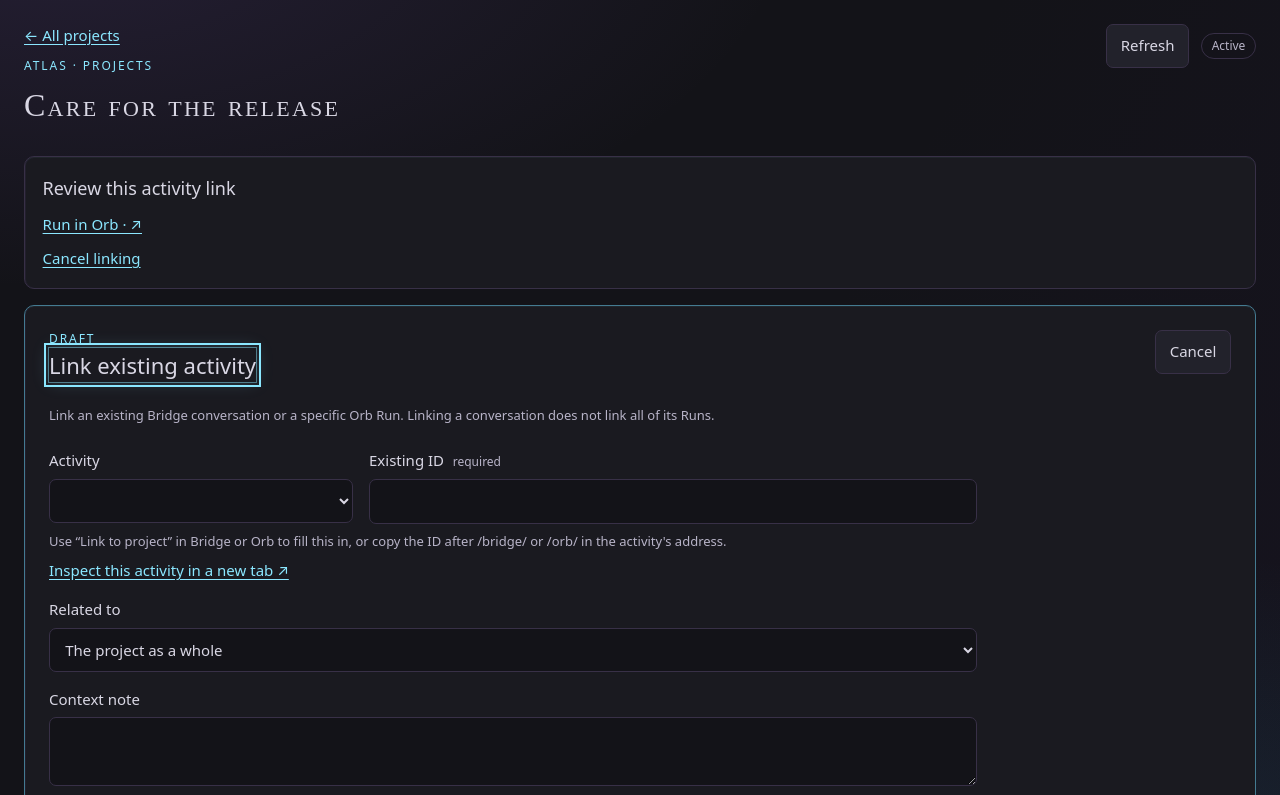
Scenario: shows a failed refresh as stale while retaining the last loaded project
Expected: the heading "Care for the release" is shown, x1=24 y1=81 x2=340 y2=131
Click the button "Refresh": click(1148, 46) x1=1106 y1=24 x2=1189 y2=68
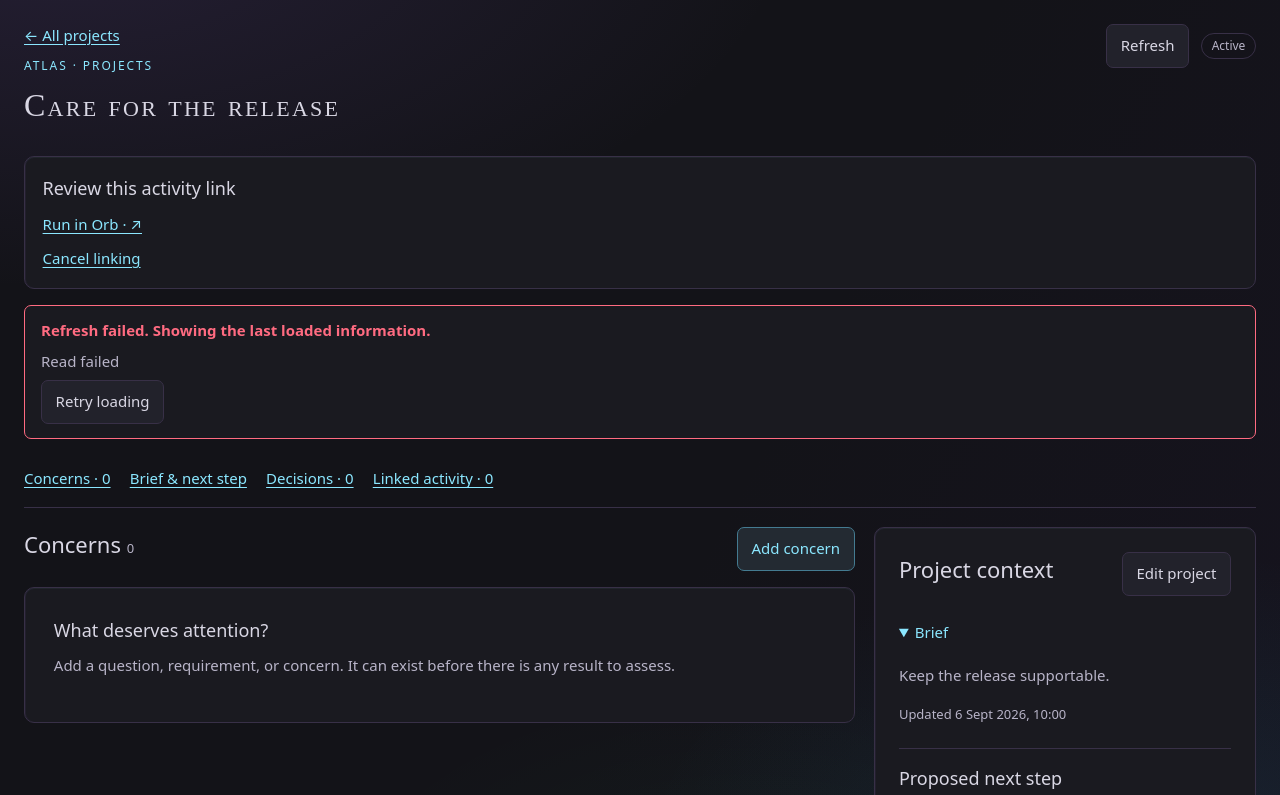
Expected: the heading "Care for the release" is shown, x1=24 y1=81 x2=340 y2=131
Expected: the message shows "Showing the last loaded information", x1=41 y1=320 x2=430 y2=340
